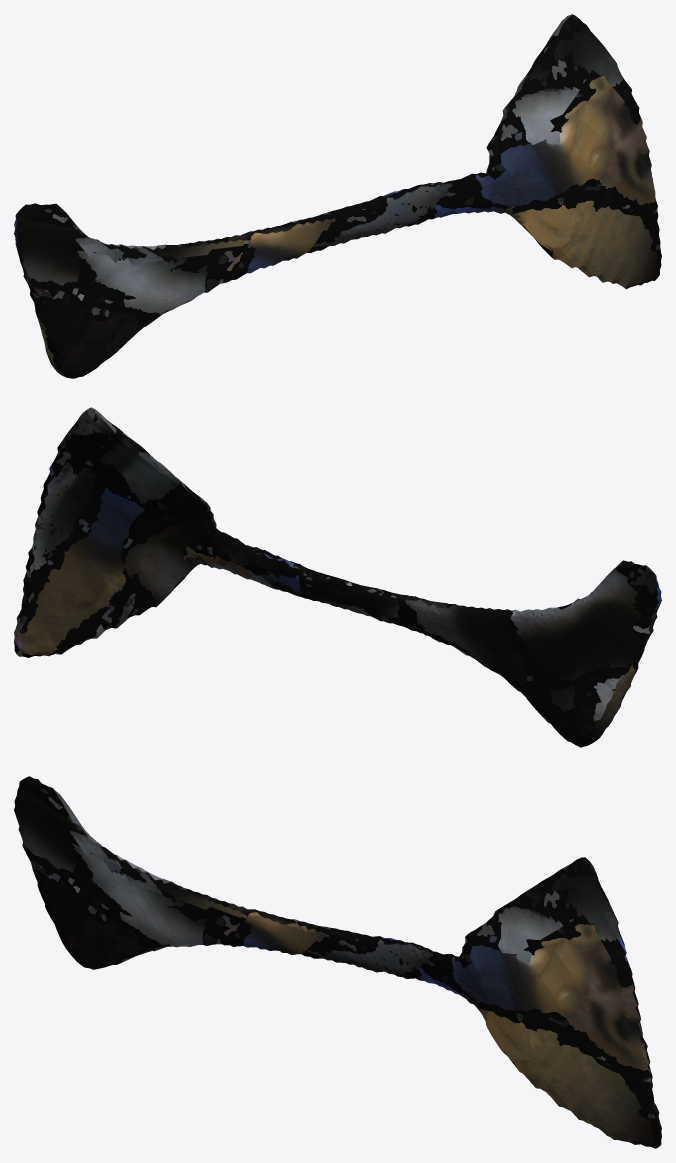
Rendered from center_mesh_cutlery-fork_1.obj.
3 views of the same model, one above another, from view 1: azimuth 30°, elevation 25°; view 2: azimuth 150°, elevation 25°; view 3: azimuth 330°, elevation 25° (orthographic). The views are drawn at different scales.
Bounding box in the file's own units: 0.1675 × 0.0683 × 0.0137.
